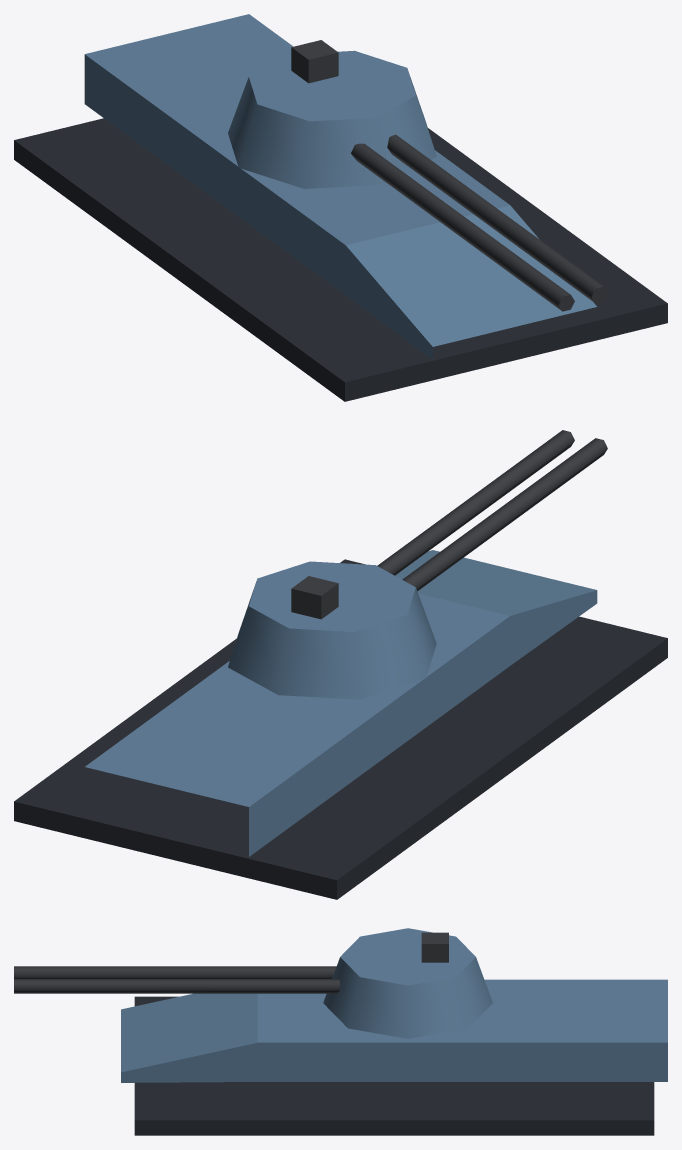
The model's file is veh_ground_tank_heavy_a10.glb.
3 views of the same model, one above another, from view 1: azimuth 30°, elevation 25°; view 2: azimuth 150°, elevation 25°; view 3: azimuth 270°, elevation 25° (orthographic). The views are drawn at different scales.
Parts seen in each view (by area): view 1: body, turret; view 2: body, turret; view 3: body, turret.
Part boxes in pixels (x1,y1,x2,y2): body: (14, 14, 667, 401); turret: (228, 50, 607, 311); body: (14, 550, 667, 899); turret: (228, 430, 607, 699); body: (121, 932, 667, 1135); turret: (14, 928, 492, 1038).
Size of what is drawn, in the model's own units: 4.31 by 2.25 by 9.63.
